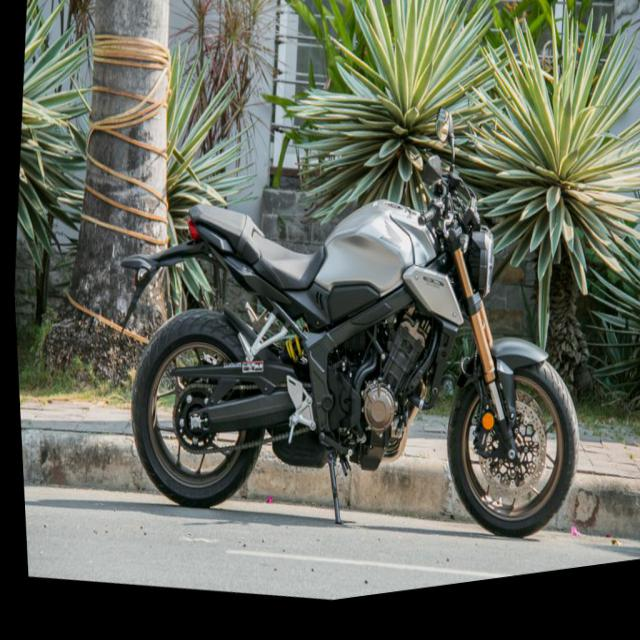CB650R: (83, 37, 606, 606)
